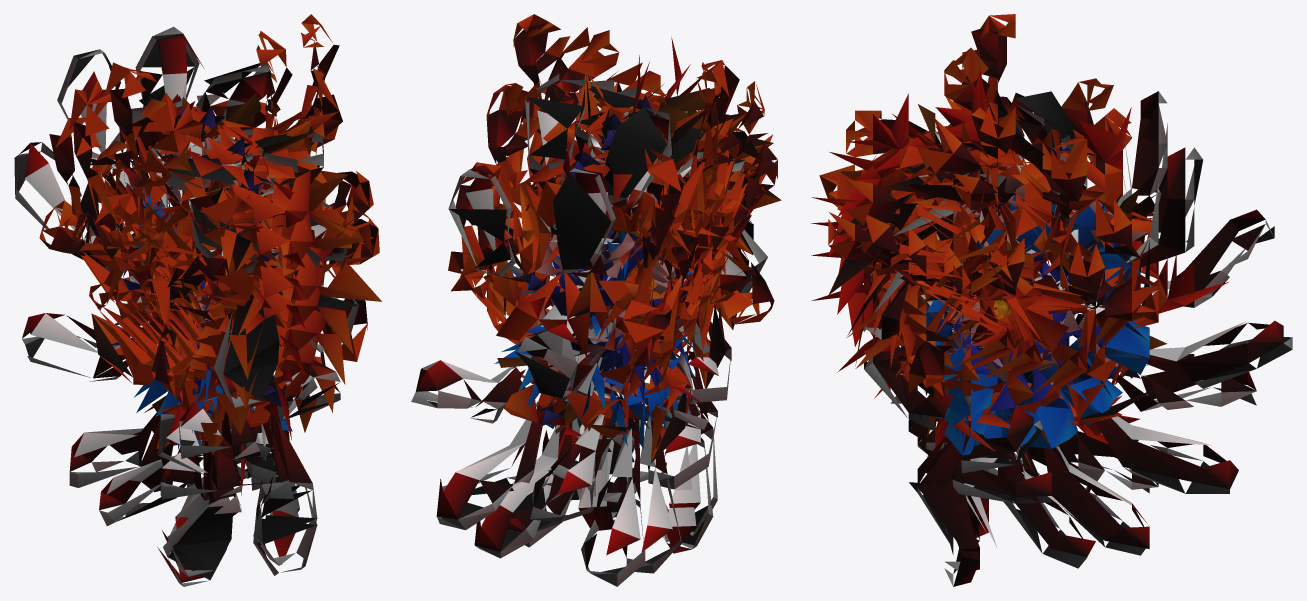
The model's file is flip.glb.
3 views of the same model, side by side, from view 1: azimuth 30°, elevation 25°; view 2: azimuth 150°, elevation 25°; view 3: azimuth 270°, elevation 25° (orthographic). The views are drawn at different scales.
Parts seen in each view (by area): view 1: Crash, Crash.001, Crash.009, Crash.012, Crash.013, Crash.011, Crash.010, Crash.004, Crash.005, Crash.002, Crash.008, Crash.007 (+2 smaller); view 2: Crash.012, Crash.003, Crash.011, Crash.013, Crash.009, Crash.004, Crash.002, Crash, Crash.008, Crash.010, Crash.005, Crash.001 (+2 smaller); view 3: Crash.011, Crash.012, Crash.010, Crash.009, Crash.002, Crash.013, Crash, Crash.004, Crash.003, Crash.001, Crash.005, Crash.008 (+2 smaller).
Part boxes in pixels (x1,y1,x2,y2): Crash: [104, 14, 364, 586]; Crash.001: [39, 93, 326, 576]; Crash.009: [57, 26, 372, 379]; Crash.012: [69, 79, 347, 487]; Crash.013: [69, 31, 311, 525]; Crash.011: [22, 138, 373, 381]; Crash.010: [14, 142, 381, 336]; Crash.004: [49, 102, 340, 459]; Crash.005: [89, 193, 359, 495]; Crash.002: [119, 94, 367, 499]; Crash.008: [131, 62, 345, 408]; Crash.007: [131, 127, 335, 435]; Crash.012: [474, 27, 747, 586]; Crash.003: [492, 81, 740, 429]; Crash.011: [436, 62, 773, 530]; Crash.013: [486, 62, 706, 573]; Crash.009: [448, 146, 777, 325]; Crash.004: [456, 162, 731, 438]; Crash.002: [519, 122, 774, 489]; Crash: [513, 14, 761, 553]; Crash.008: [525, 74, 765, 328]; Crash.010: [411, 91, 781, 423]; Crash.005: [477, 204, 767, 463]; Crash.001: [448, 55, 727, 535]; Crash.011: [829, 110, 1256, 493]; Crash.012: [873, 47, 1158, 555]; Crash.010: [812, 164, 1292, 388]; Crash.009: [811, 91, 1203, 338]; Crash.002: [908, 107, 1162, 503]; Crash.013: [936, 78, 1113, 568]; Crash: [847, 14, 1016, 586]; Crash.004: [864, 108, 1156, 447]; Crash.003: [930, 96, 1228, 473]; Crash.001: [902, 68, 1158, 570]; Crash.005: [863, 242, 1104, 470]; Crash.008: [811, 91, 1087, 368].
Size of the model in its own units: 59.64 by 132 by 116.
